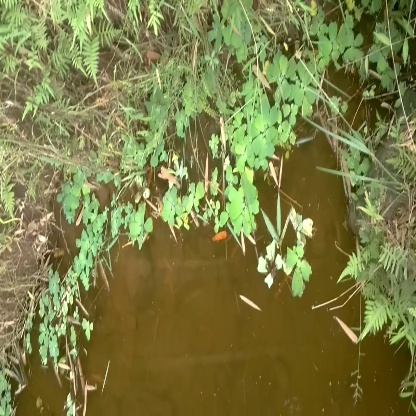leaf: (261, 206, 322, 299)
